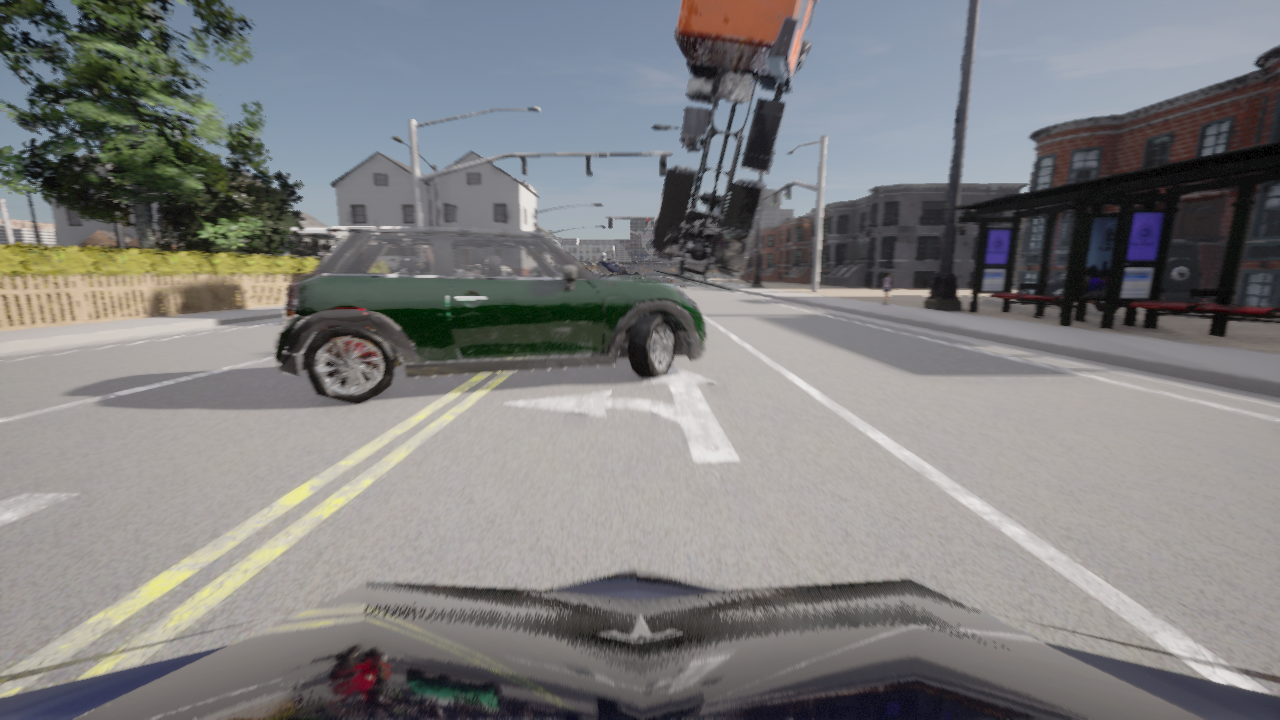cyclist: (0, 569, 1279, 719), (274, 216, 705, 404), (651, 0, 818, 291), (284, 227, 374, 258), (1048, 297, 1198, 313), (597, 251, 621, 275), (614, 266, 644, 278)
pedestrian: (320, 249, 327, 259)
